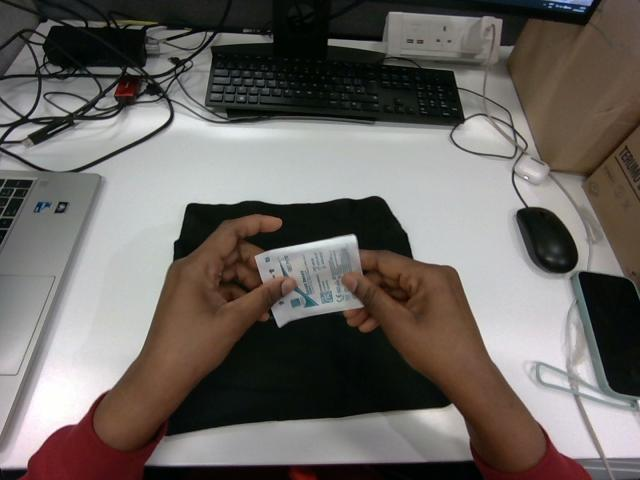gauze: (255, 235, 362, 326)
